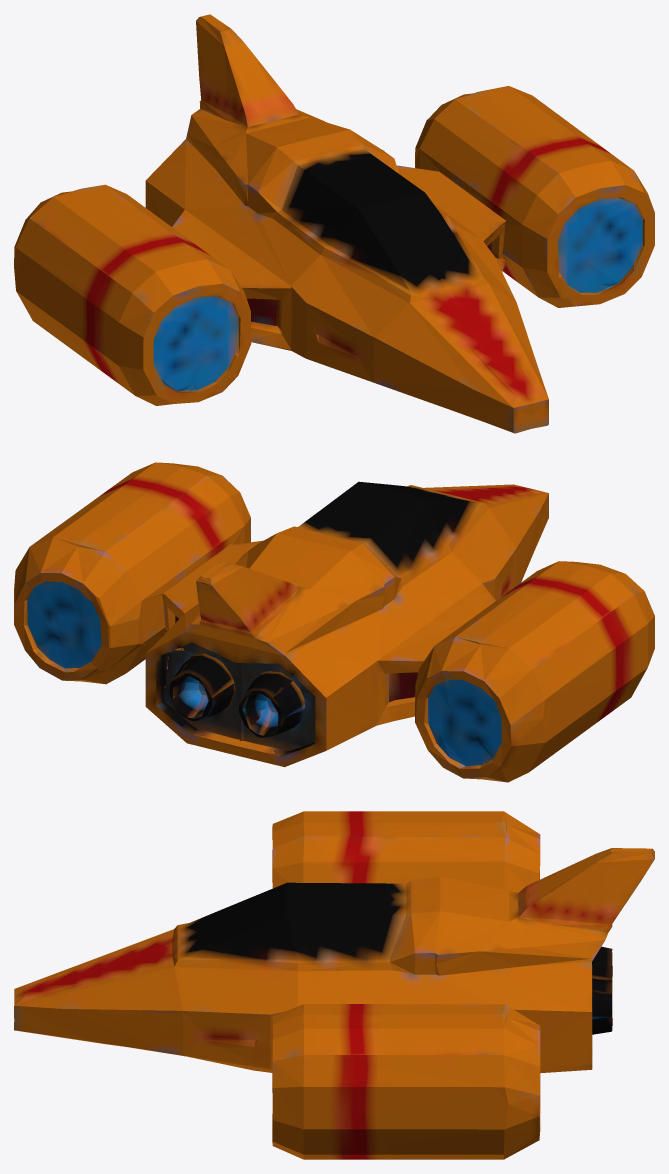
3 views of the same model, one above another, from view 1: azimuth 30°, elevation 25°; view 2: azimuth 150°, elevation 25°; view 3: azimuth 270°, elevation 25° (orthographic). The views are drawn at different scales.
Parts seen in each view (by area): view 1: world; view 2: world; view 3: world.
Part boxes in pixels (x1,y1,x2,y2): world: (14,14,654,433); world: (14,462,654,782); world: (14,811,654,1159).
Bounding box in the file's own units: 0.9358 × 0.3519 × 1.
Materials: 1 (1 with a texture image).
